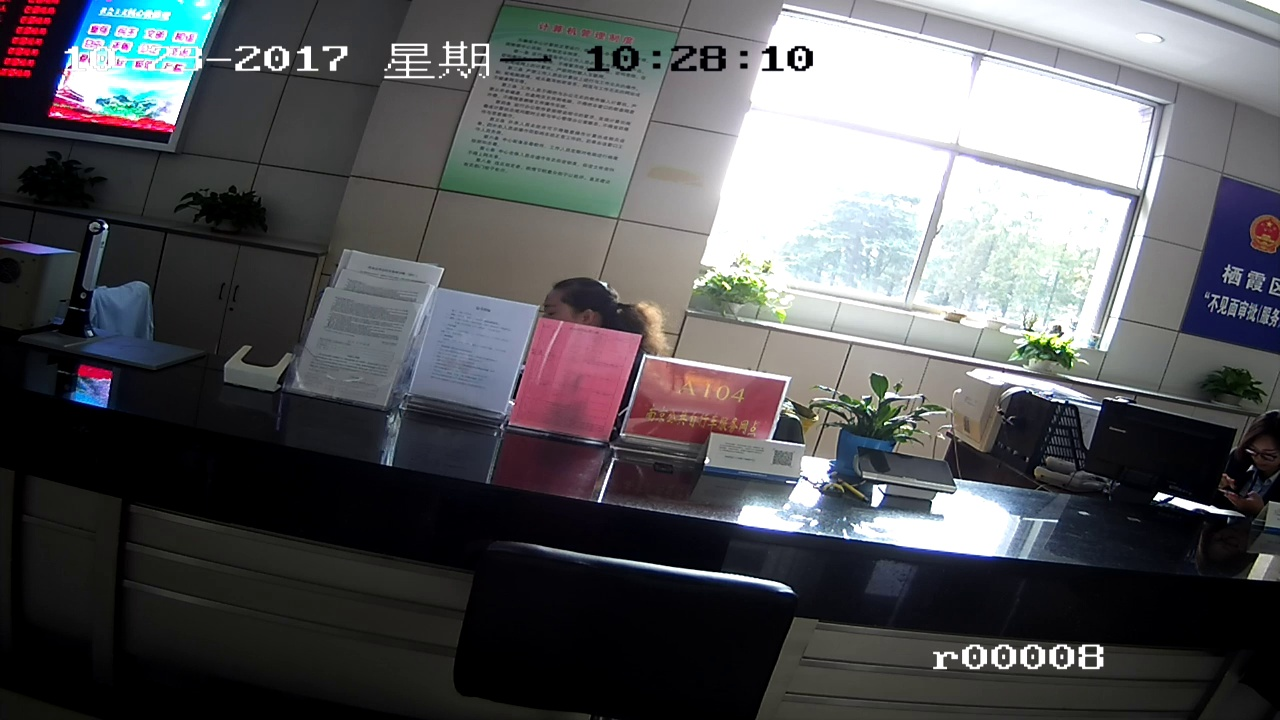billboard: (481, 13, 628, 235), (653, 368, 789, 462)
chair: (454, 534, 785, 716)
person: (1241, 407, 1280, 513), (548, 279, 631, 328)
pot: (831, 372, 906, 481), (27, 150, 110, 207), (710, 258, 771, 321), (187, 192, 274, 231), (1021, 324, 1082, 373), (1204, 363, 1251, 399)
